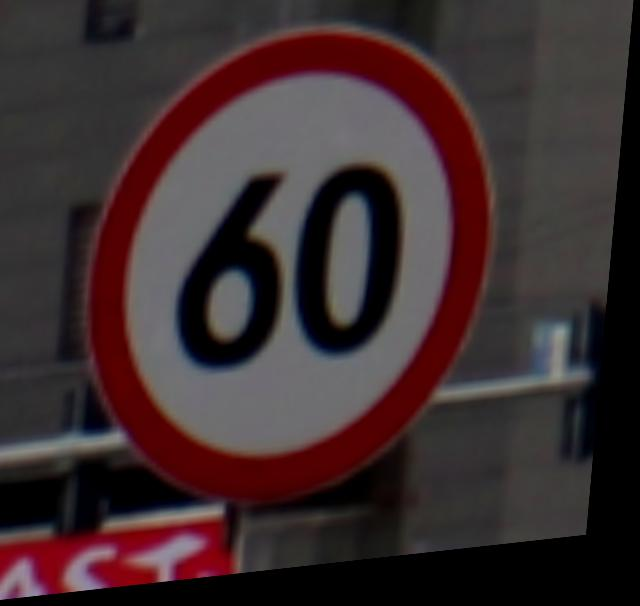limit60: (58, 8, 522, 529)
